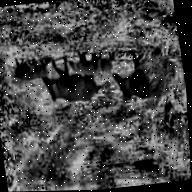boar: (105, 45, 181, 110), (35, 64, 98, 112), (62, 42, 111, 81), (9, 51, 53, 90), (92, 51, 116, 77)
